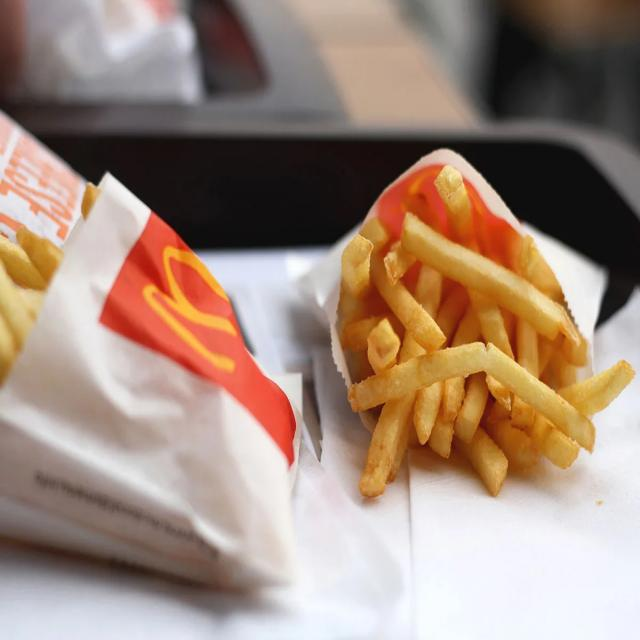Fries: (335, 153, 601, 500)
